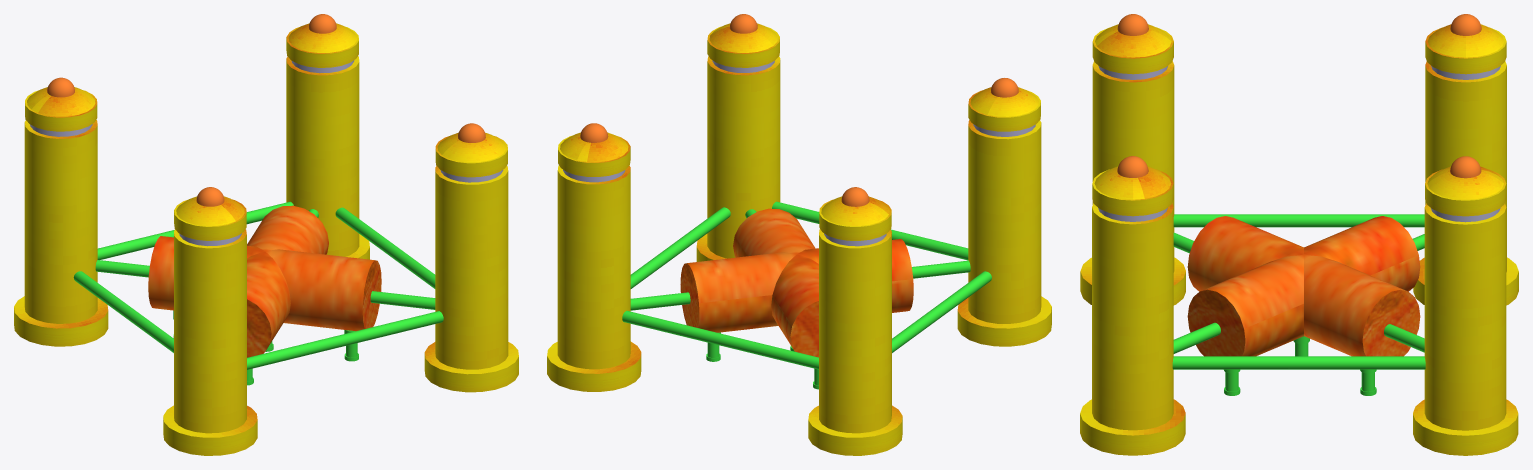
The model's file is NuclearFactory_stage2.fbx.
3 renders of one model, left to right at view 1: azimuth 30°, elevation 25°; view 2: azimuth 150°, elevation 25°; view 3: azimuth 270°, elevation 25°, orthographic. The views are drawn at different scales.
Parts seen in each view (by area): view 1: polySurface88; view 2: polySurface88; view 3: polySurface88.
Boxes of the visible parts, x1=… form: polySurface88: x1=14, y1=14, x2=518, y2=455; polySurface88: x1=547, y1=14, x2=1051, y2=455; polySurface88: x1=1080, y1=14, x2=1518, y2=455.
Bounding box in the file's own units: 49.27 × 33.97 × 48.9.
5 materials, 4 textured.
